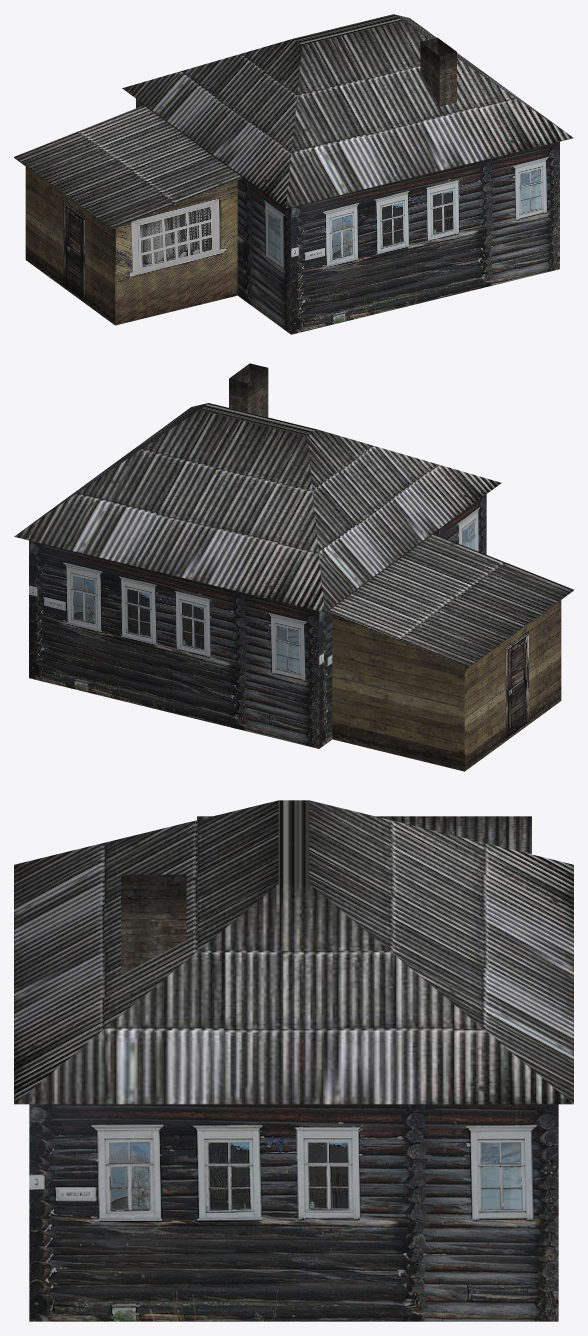
File: d_dom_1et_37.FBX
The picture shows the model from 3 angles, top to bottom: view 1: azimuth 30°, elevation 25°; view 2: azimuth 150°, elevation 25°; view 3: azimuth 270°, elevation 25°; orthographic projection. The views are drawn at different scales.
Parts seen in each view (by area): view 1: d_dom_1et_37; view 2: d_dom_1et_37; view 3: d_dom_1et_37.
Part boxes in pixels (box(x1,y1,x2,y2)): d_dom_1et_37: box(14, 14, 573, 334); d_dom_1et_37: box(14, 363, 573, 771); d_dom_1et_37: box(14, 800, 573, 1321).
Bounding box in the file's own units: 10.68 × 7.44 × 5.41.
